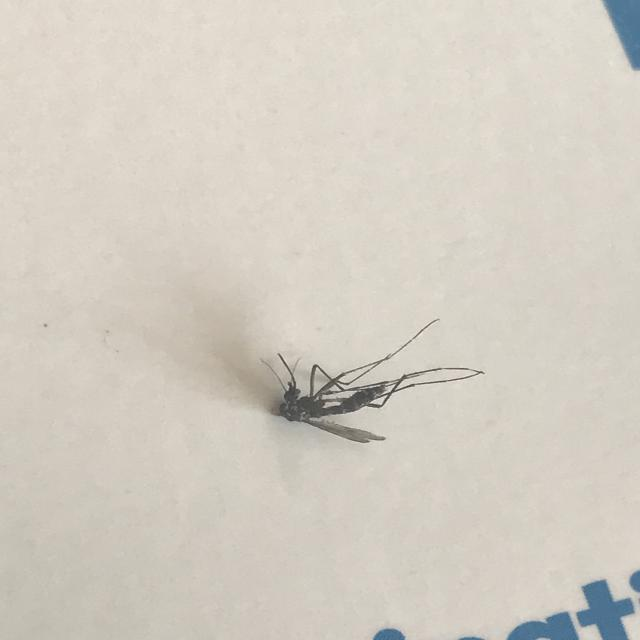albopictus: (253, 313, 482, 454)
